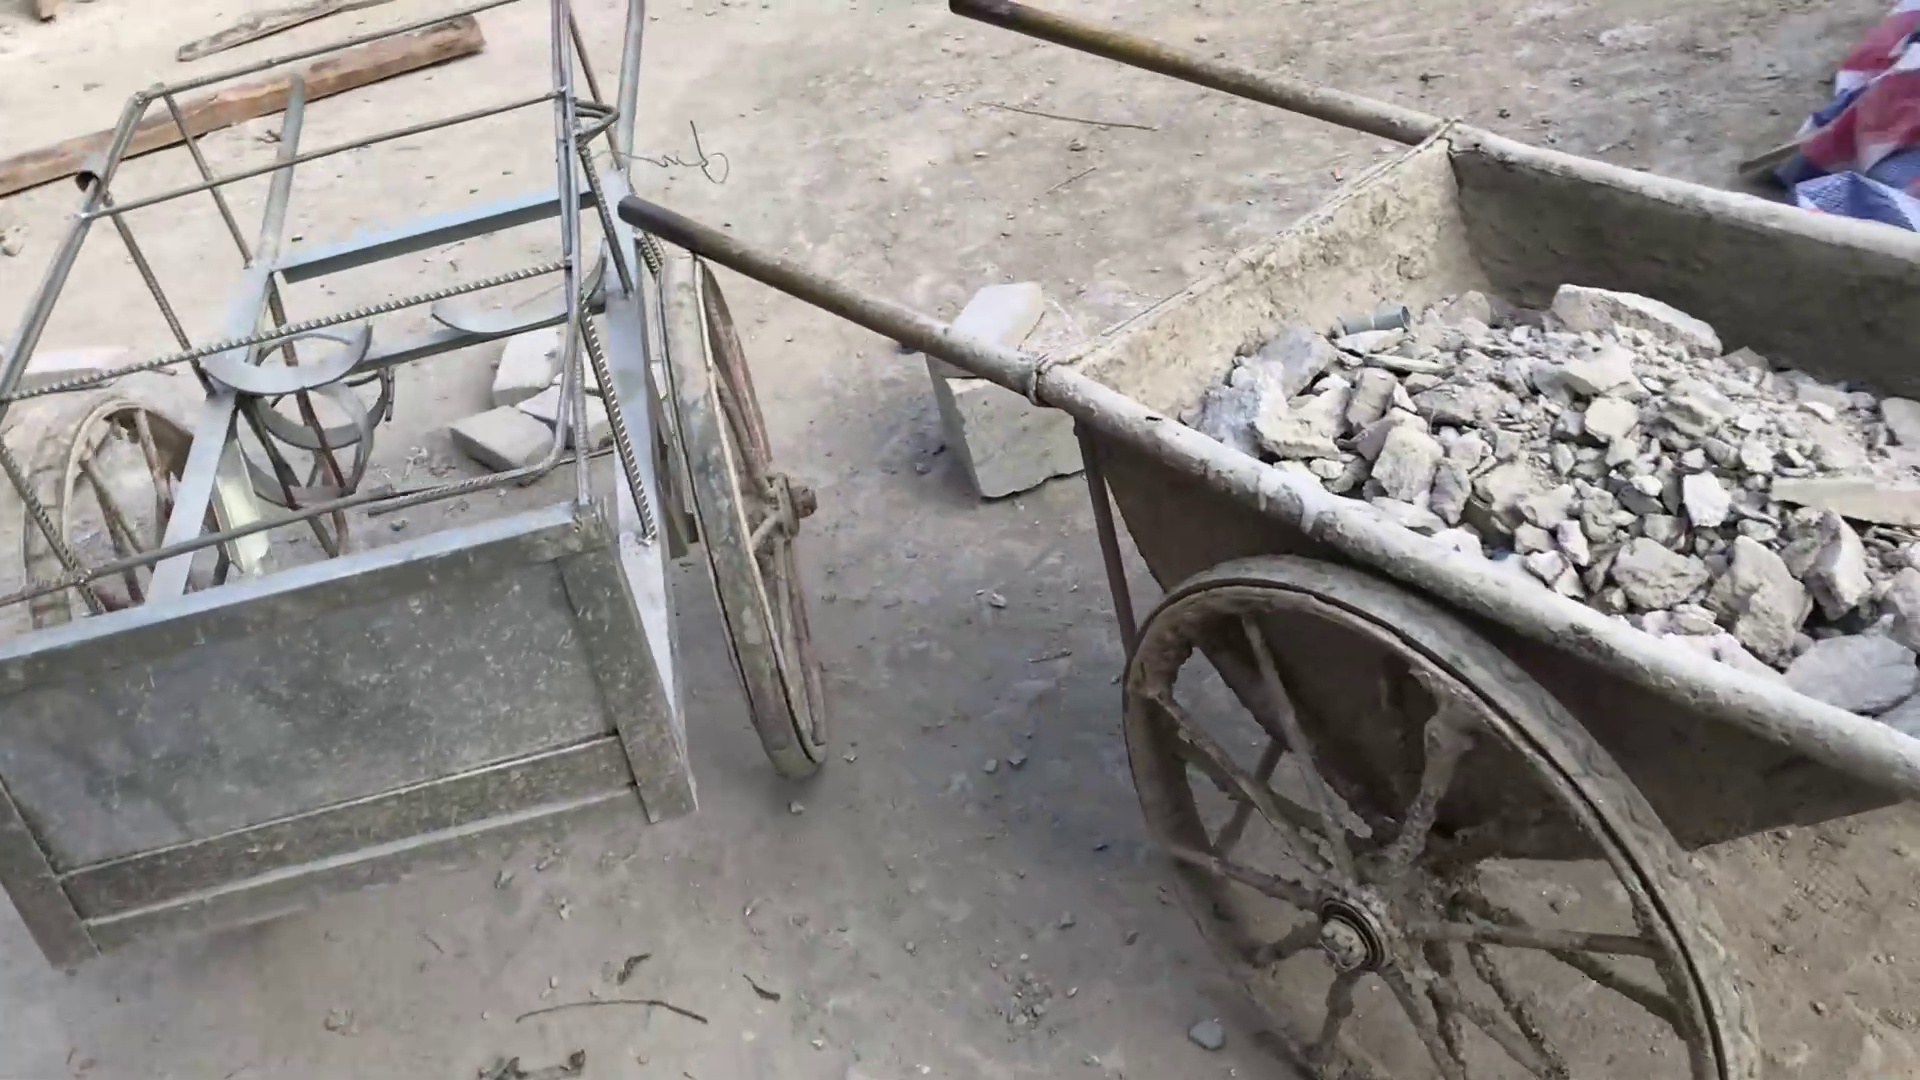handcart: (624, 16, 1920, 1065), (12, 1, 814, 855)
